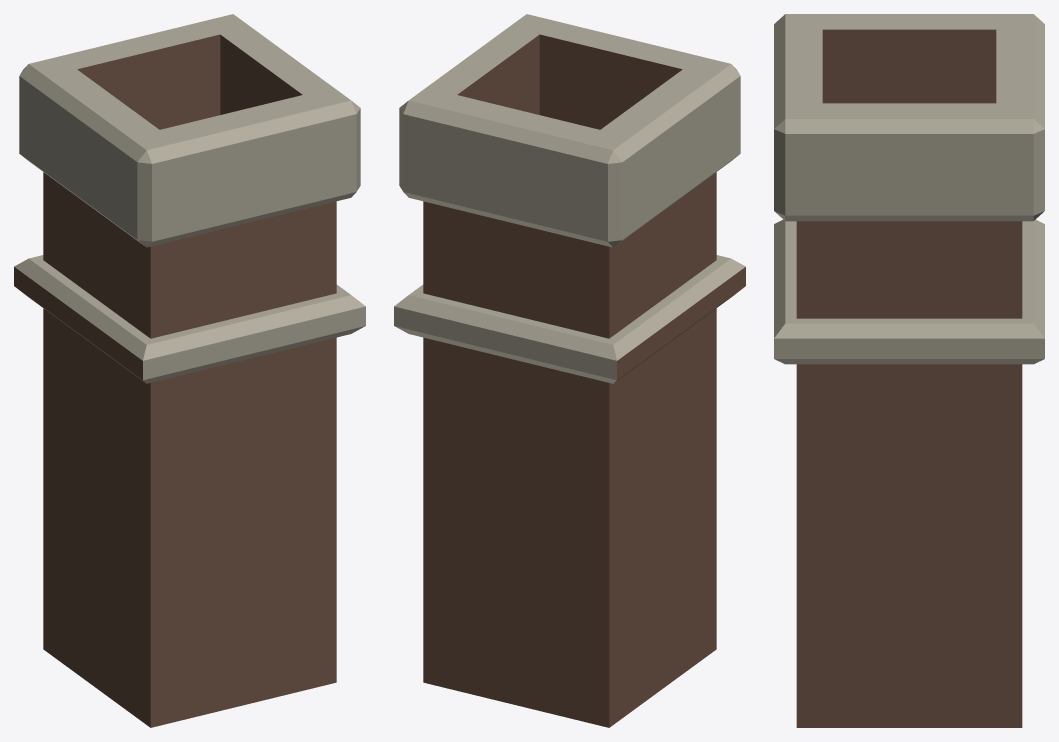
The model's file is victorian_chimney_3.fbx.
The picture shows the model from 3 angles, left to right: view 1: azimuth 30°, elevation 25°; view 2: azimuth 150°, elevation 25°; view 3: azimuth 270°, elevation 25°; orthographic projection. The views are drawn at different scales.
Parts seen in each view (by area): view 1: Cube.261; view 2: Cube.261; view 3: Cube.261.
Boxes of the visible parts, x1,y1,x2,y2 form: Cube.261: [14, 14, 365, 727]; Cube.261: [394, 14, 745, 727]; Cube.261: [774, 14, 1044, 727].
Bounding box in the file's own units: 120 × 300 × 120.
